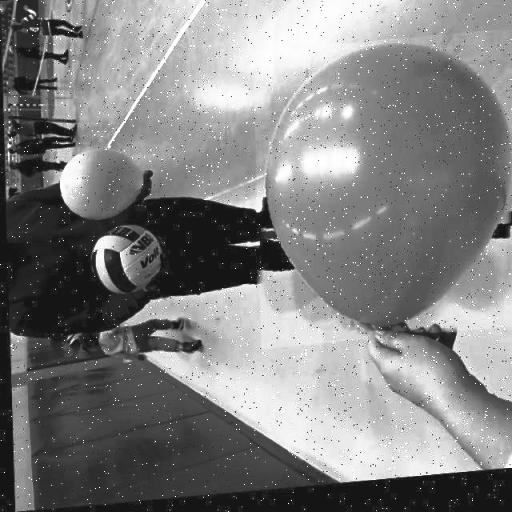balloon: (252, 37, 512, 353), (56, 143, 144, 227)
